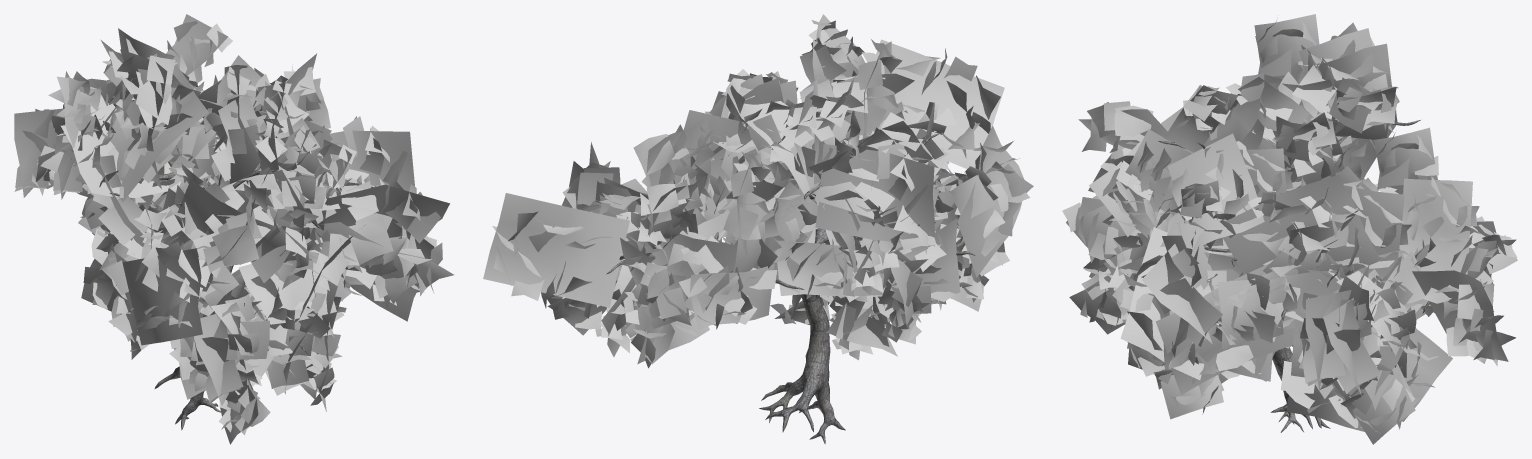
Rendered from Tree2.fbx.
3 views of the same model, side by side, from view 1: azimuth 30°, elevation 25°; view 2: azimuth 150°, elevation 25°; view 3: azimuth 270°, elevation 25° (orthographic). The views are drawn at different scales.
Visible parts, largest first — view 1: tree2|branch2-2|Dupli|40, tree2|branch2-2|Dupli|58, tree2|branch2-3|Dupli|57, tree2|branch2-1|Dupli|23, tree2|branch2-3|Dupli|24, tree2|branch2-1|Dupli|44, tree2|branch2-2|Dupli|46, tree2|branch2-2|Dupli|43, tree2|branch2-3|Dupli|75, tree2|branch2-3|Dupli|78, tree2|branch2-3|Dupli|39, tree2|branch2-3|Dupli|63 (+37 smaller); view 2: tree2|branch2-2|Dupli|52, tree2|branch2-3|Dupli|21, tree2|branch2-2|Dupli|46, tree2|branch2-2|Dupli|40, tree2, tree2|branch2-1|Dupli|41, tree2|branch2-1|Dupli|35, tree2|branch2-3|Dupli|39, tree2|branch2-1|Dupli|17, tree2|branch2-2|Dupli|4, tree2|branch2-1|Dupli|29, tree2|branch2-3|Dupli|36 (+31 smaller); view 3: tree2|branch2-2|Dupli|55, tree2|branch2-2|Dupli|37, tree2|branch2-3|Dupli|57, tree2|branch2-2|Dupli|52, tree2|branch2-2|Dupli|49, tree2|branch2-1|Dupli|5, tree2|branch2-2|Dupli|70, tree2|branch2-3|Dupli|24, tree2|branch2-2|Dupli|4, tree2|branch2-2|Dupli|58, tree2|branch2-3|Dupli|, tree2|branch2-3|Dupli|75 (+38 smaller).
Boxes of the visible parts, box(x1,y1,x2,y2) form: tree2|branch2-2|Dupli|40: box(122, 241, 210, 345); tree2|branch2-2|Dupli|58: box(309, 216, 453, 303); tree2|branch2-3|Dupli|57: box(307, 168, 449, 250); tree2|branch2-1|Dupli|23: box(115, 49, 175, 188); tree2|branch2-3|Dupli|24: box(198, 66, 261, 183); tree2|branch2-1|Dupli|44: box(176, 179, 313, 282); tree2|branch2-2|Dupli|46: box(193, 152, 284, 272); tree2|branch2-2|Dupli|43: box(107, 64, 208, 201); tree2|branch2-3|Dupli|75: box(322, 116, 414, 191); tree2|branch2-3|Dupli|78: box(238, 249, 336, 329); tree2|branch2-3|Dupli|39: box(81, 226, 138, 342); tree2|branch2-3|Dupli|63: box(194, 293, 273, 405); tree2|branch2-2|Dupli|52: box(483, 193, 629, 308); tree2|branch2-3|Dupli|21: box(815, 144, 936, 251); tree2|branch2-2|Dupli|46: box(876, 39, 1004, 168); tree2|branch2-2|Dupli|40: box(950, 125, 1033, 277); tree2: box(606, 133, 975, 444); tree2|branch2-1|Dupli|41: box(678, 264, 777, 329); tree2|branch2-1|Dupli|35: box(722, 151, 783, 272); tree2|branch2-3|Dupli|39: box(886, 217, 960, 325); tree2|branch2-1|Dupli|17: box(721, 69, 809, 194); tree2|branch2-2|Dupli|4: box(633, 116, 714, 220); tree2|branch2-1|Dupli|29: box(773, 238, 884, 299); tree2|branch2-3|Dupli|36: box(634, 224, 737, 323); tree2|branch2-2|Dupli|55: box(1223, 175, 1380, 282); tree2|branch2-2|Dupli|37: box(1400, 176, 1480, 274); tree2|branch2-3|Dupli|57: box(1142, 212, 1226, 346); tree2|branch2-2|Dupli|52: box(1412, 270, 1515, 366); tree2|branch2-2|Dupli|49: box(1167, 133, 1264, 249); tree2|branch2-1|Dupli|5: box(1216, 270, 1340, 349); tree2|branch2-2|Dupli|70: box(1155, 263, 1294, 394); tree2|branch2-3|Dupli|24: box(1202, 72, 1309, 156); tree2|branch2-2|Dupli|4: box(1319, 185, 1411, 293); tree2|branch2-2|Dupli|58: box(1119, 227, 1217, 380); tree2|branch2-3|Dupli|: box(1323, 267, 1382, 395); tree2|branch2-3|Dupli|75: box(1300, 265, 1372, 390).
Size of the model in its own units: 3014 by 2928 by 3112.
